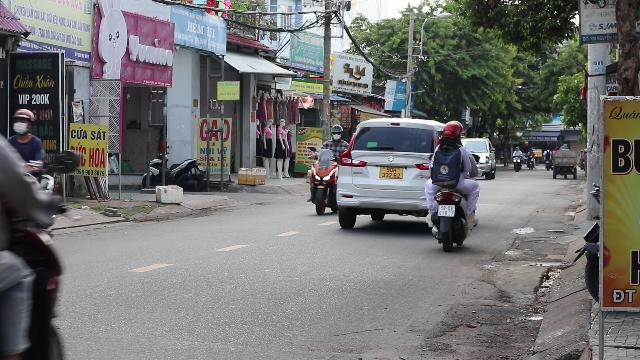helmet: (439, 121, 463, 146), (330, 124, 342, 139)
licenseplate: (438, 204, 454, 216)
motorcyclist: (423, 120, 481, 250), (304, 124, 346, 216)
